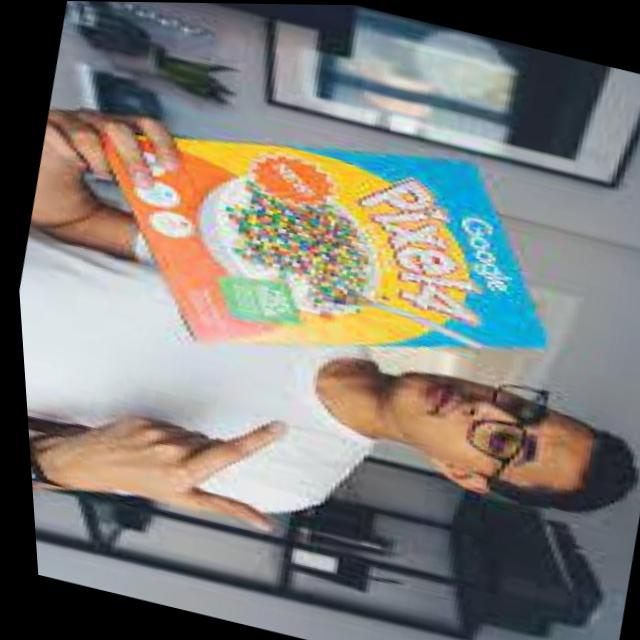Cerealbox: (50, 69, 589, 430)
